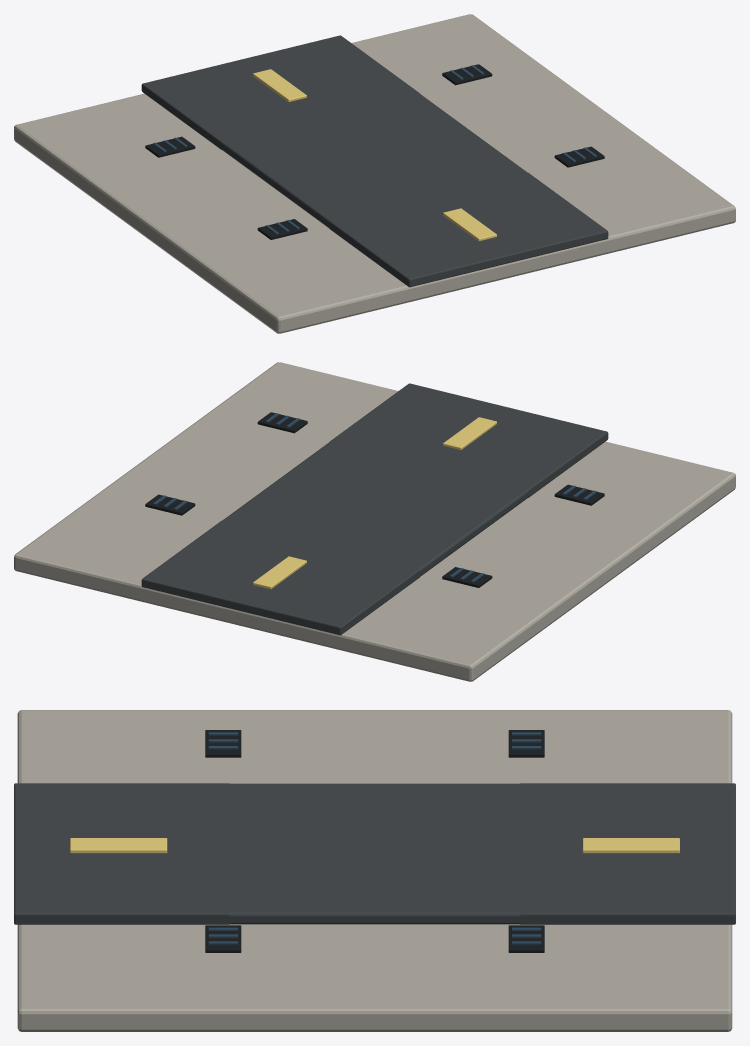
The model's file is ROAD_LOCAL_1x1_STRAIGHT.glb.
The picture shows the model from 3 angles, top to bottom: view 1: azimuth 30°, elevation 25°; view 2: azimuth 150°, elevation 25°; view 3: azimuth 270°, elevation 25°; orthographic projection. The views are drawn at different scales.
Visible parts, largest first — view 1: ROAD_LOCAL_1x1_STRAIGHT_Visual; view 2: ROAD_LOCAL_1x1_STRAIGHT_Visual; view 3: ROAD_LOCAL_1x1_STRAIGHT_Visual.
Part boxes in pixels (x1,y1,x2,y2): ROAD_LOCAL_1x1_STRAIGHT_Visual: (14, 14, 735, 333); ROAD_LOCAL_1x1_STRAIGHT_Visual: (14, 362, 735, 681); ROAD_LOCAL_1x1_STRAIGHT_Visual: (14, 710, 735, 1031).
Size of what is drawn, in the model's own units: 1.98 by 0.137 by 2.
